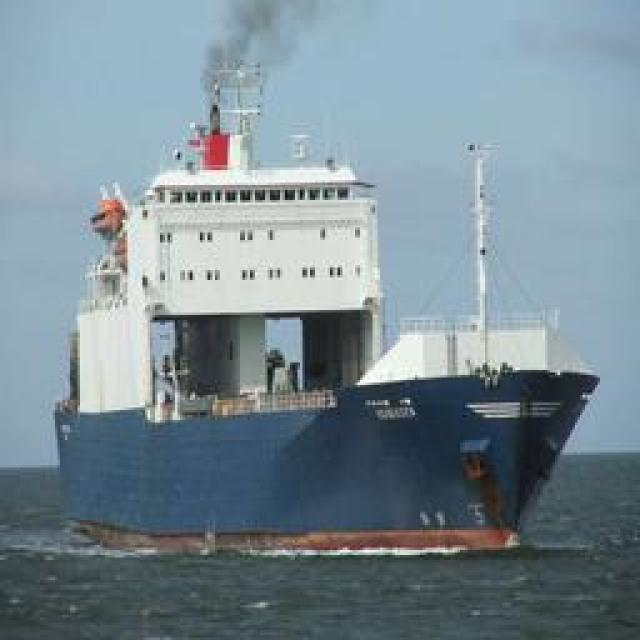ship2: (52, 62, 606, 559)
